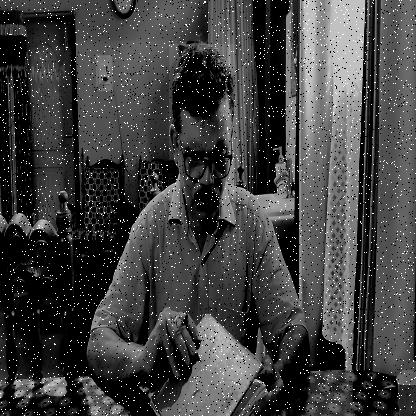Normal: (169, 44, 234, 226)
